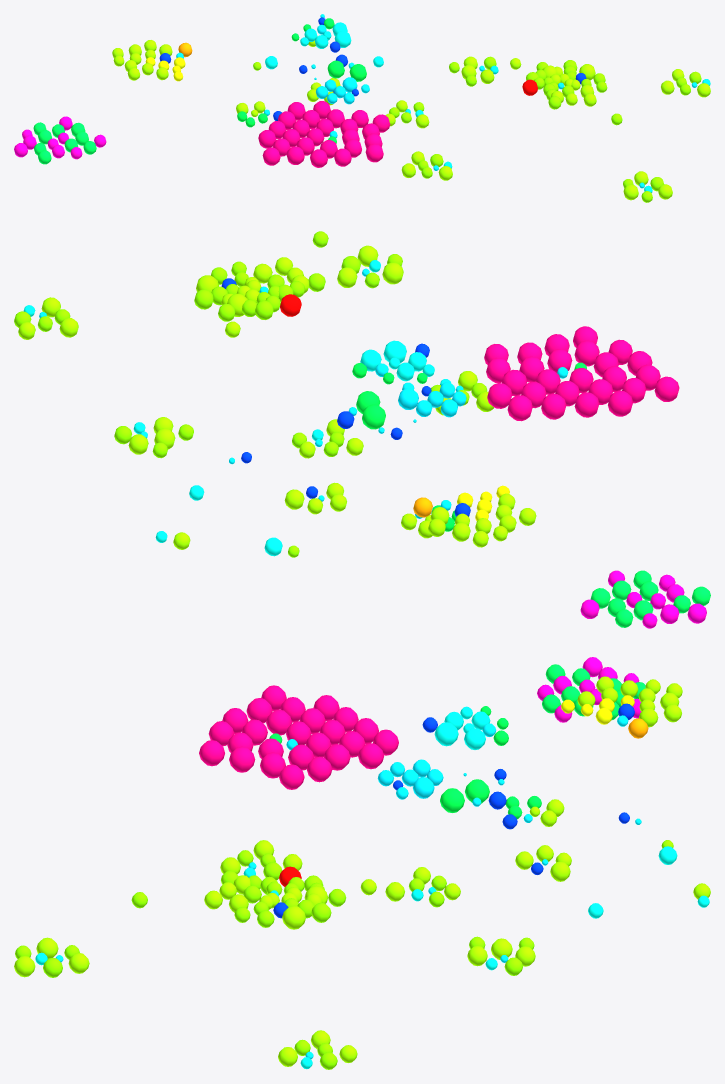
Rendered from task-36702b1cf-layout.gltf.
The picture shows the model from 3 angles, top to bottom: view 1: azimuth 30°, elevation 25°; view 2: azimuth 150°, elevation 25°; view 3: azimuth 270°, elevation 25°; orthographic projection. The views are drawn at different scales.
Visible parts, largest first — view 1: normal_po_files, normal_c_files, normal_h_files, normal_no_ext_files, normal_parsed_files, normal_jpg_files, normal_in_files, normal_m4_files, normal_am_files, normal_gitignore_files, normal_sh_files; view 2: normal_po_files, normal_c_files, normal_h_files, normal_no_ext_files, normal_parsed_files, normal_jpg_files, normal_in_files, normal_m4_files, normal_am_files, normal_gitignore_files, normal_sh_files; view 3: normal_po_files, normal_c_files, normal_h_files, normal_no_ext_files, normal_in_files, normal_jpg_files, normal_parsed_files, normal_am_files, normal_m4_files, normal_gitignore_files, normal_sh_files.
Part boxes in pixels (left/top/right/bottom): normal_po_files: left=258, top=101, right=390, bottom=167; normal_c_files: left=112, top=40, right=710, bottom=200; normal_h_files: left=253, top=56, right=701, bottom=202; normal_no_ext_files: left=265, top=22, right=710, bottom=192; normal_parsed_files: left=33, top=122, right=96, bottom=164; normal_jpg_files: left=14, top=116, right=106, bottom=159; normal_in_files: left=237, top=18, right=366, bottom=143; normal_m4_files: left=316, top=77, right=357, bottom=104; normal_am_files: left=159, top=17, right=586, bottom=120; normal_gitignore_files: left=176, top=14, right=697, bottom=188; normal_sh_files: left=145, top=57, right=185, bottom=81; normal_po_files: left=484, top=326, right=679, bottom=421; normal_c_files: left=18, top=245, right=536, bottom=549; normal_h_files: left=14, top=231, right=487, bottom=557; normal_no_ext_files: left=23, top=260, right=450, bottom=556; normal_parsed_files: left=590, top=570, right=710, bottom=627; normal_jpg_files: left=580, top=570, right=706, bottom=628; normal_in_files: left=352, top=362, right=586, bottom=531; normal_m4_files: left=398, top=382, right=466, bottom=417; normal_am_files: left=221, top=278, right=470, bottom=516; normal_gitignore_files: left=39, top=268, right=568, bottom=518; normal_sh_files: left=457, top=485, right=509, bottom=520; normal_po_files: left=199, top=685, right=398, bottom=789; normal_c_files: left=14, top=676, right=710, bottom=1066; normal_h_files: left=15, top=840, right=673, bottom=1069; normal_no_ext_files: left=35, top=706, right=709, bottom=1069; normal_in_files: left=269, top=706, right=541, bottom=819; normal_jpg_files: left=537, top=657, right=641, bottom=722; normal_parsed_files: left=542, top=664, right=645, bottom=719; normal_am_files: left=273, top=703, right=634, bottom=918; normal_m4_files: left=377, top=759, right=443, bottom=798; normal_gitignore_files: left=56, top=715, right=641, bottom=1059; normal_sh_files: left=561, top=695, right=634, bottom=724.
Size of the model in its own units: 127 by 20.08 by 92.54.
